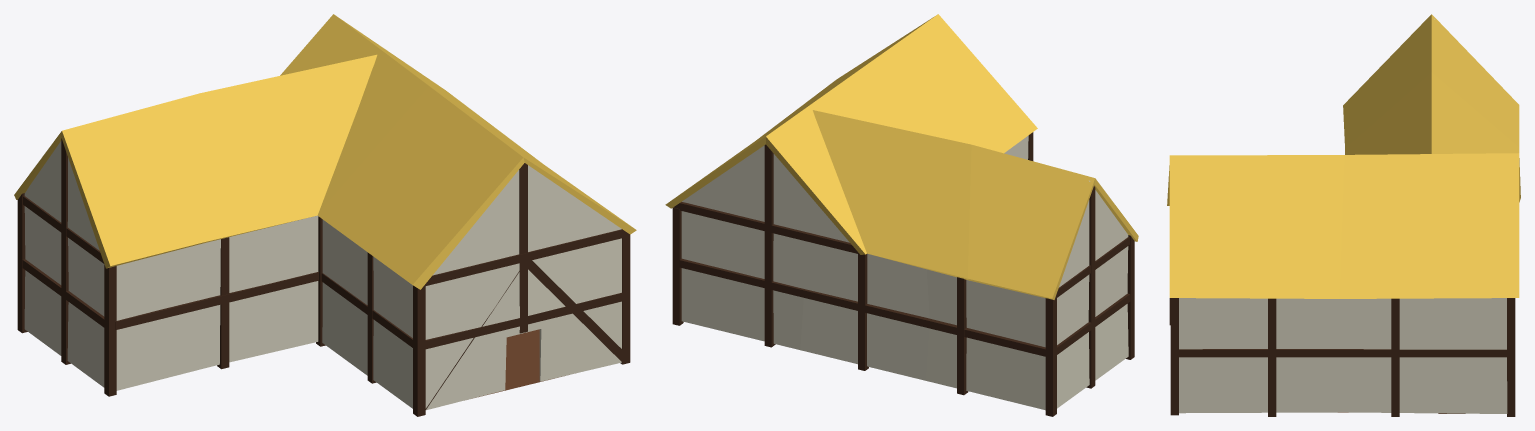
File: theralin_tavern.glb
The picture shows the model from 3 angles, left to right: view 1: azimuth 30°, elevation 25°; view 2: azimuth 150°, elevation 25°; view 3: azimuth 270°, elevation 25°; orthographic projection. The views are drawn at different scales.
Parts seen in each view (by area): view 1: Mesh; view 2: Mesh; view 3: Mesh.
Boxes of the visible parts, x1,y1,x2,y2 form: Mesh: [14, 14, 636, 416]; Mesh: [665, 14, 1138, 416]; Mesh: [1167, 14, 1520, 416].
Size of the model in its own units: 19.74 by 10.83 by 15.27.
